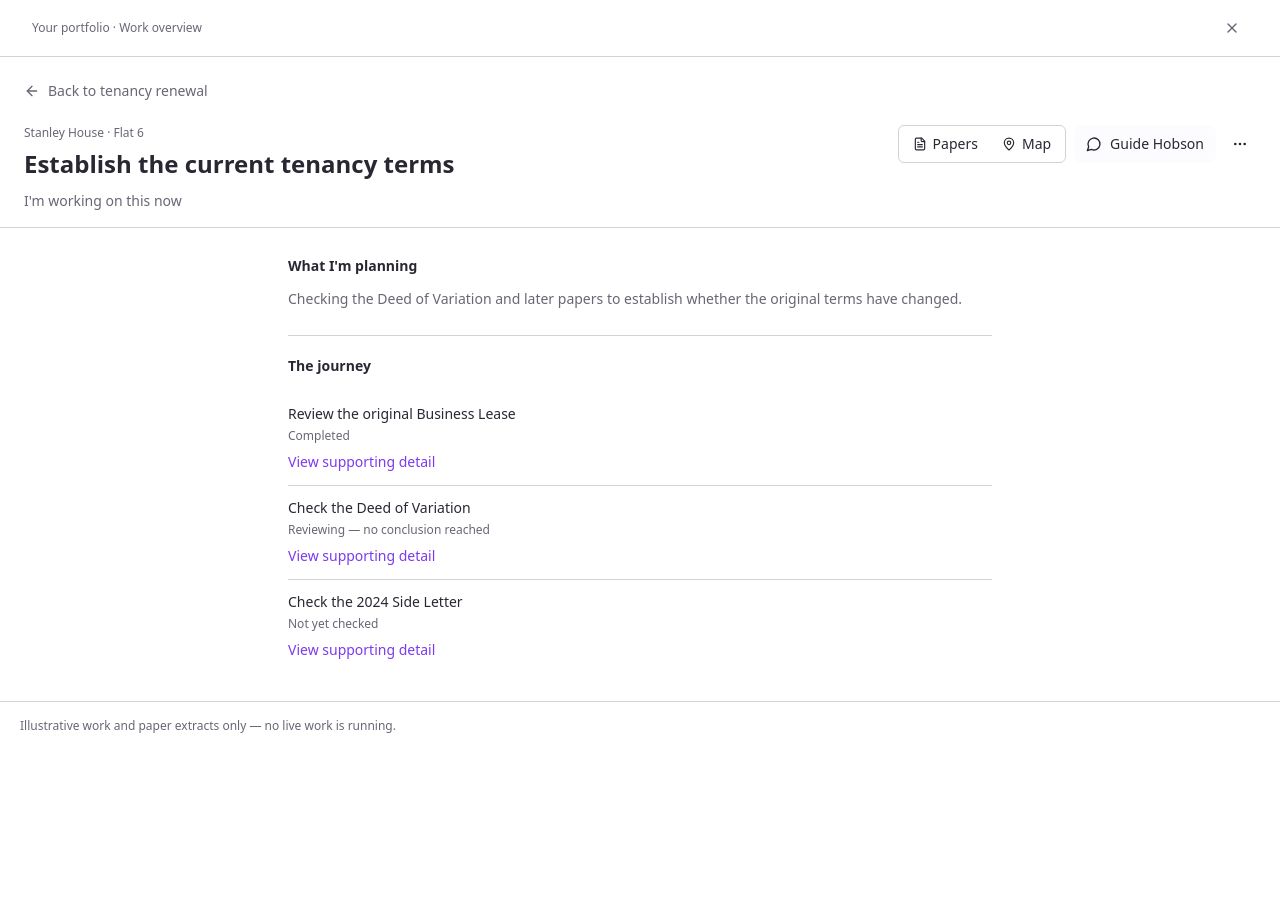
it: Illustrative work journey › opens one original-lease finding at a time and reuses its paper preview
Earlier steps of the test are not shown.
Later steps or results of the test are not shown.
Click the button "View supporting detail" below "Check the Deed of Variation" at (362, 556), box [288,546,435,566]
(page scrolled)
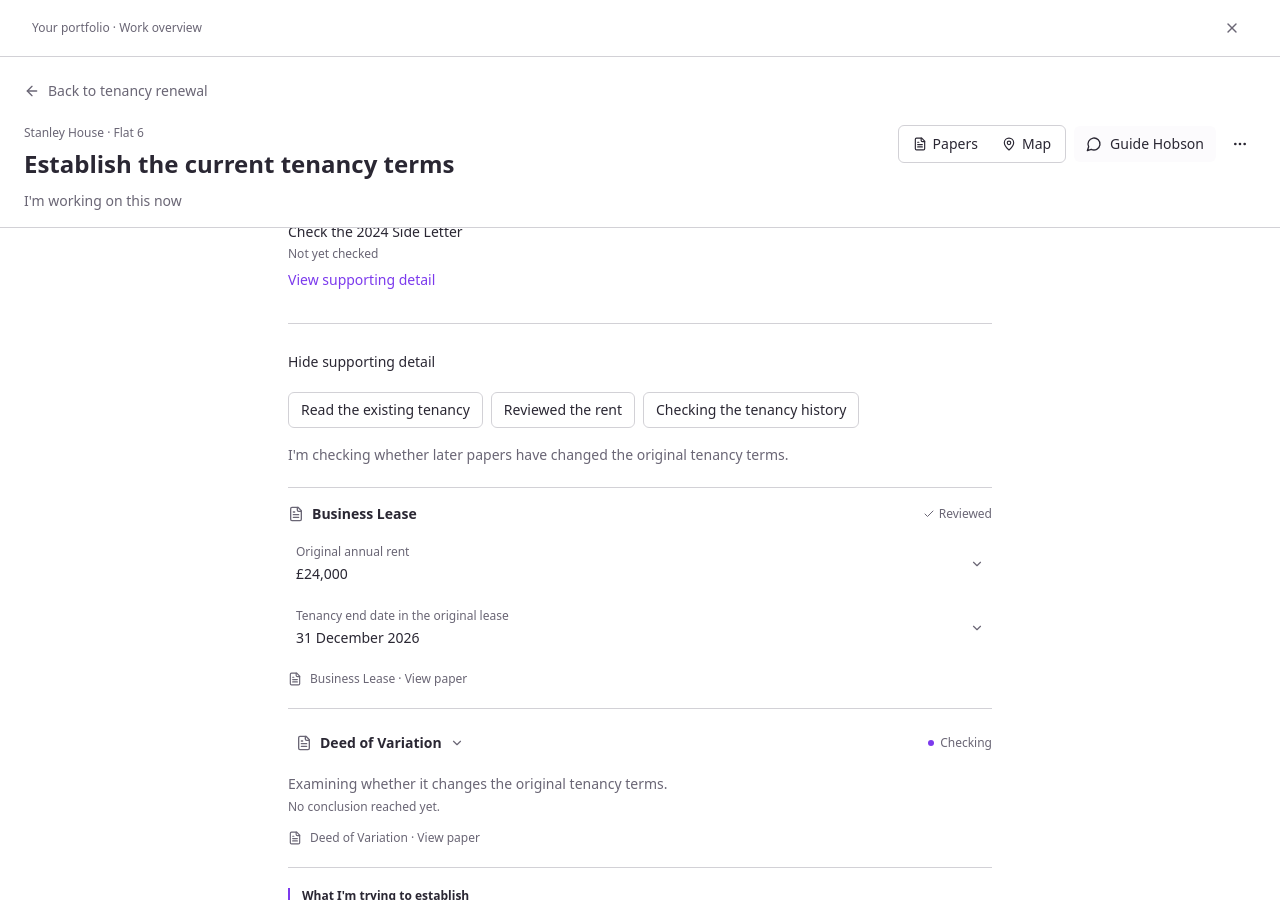
Click the button "Original annual rent £24,000" at (353, 551), box [288,536,992,592]
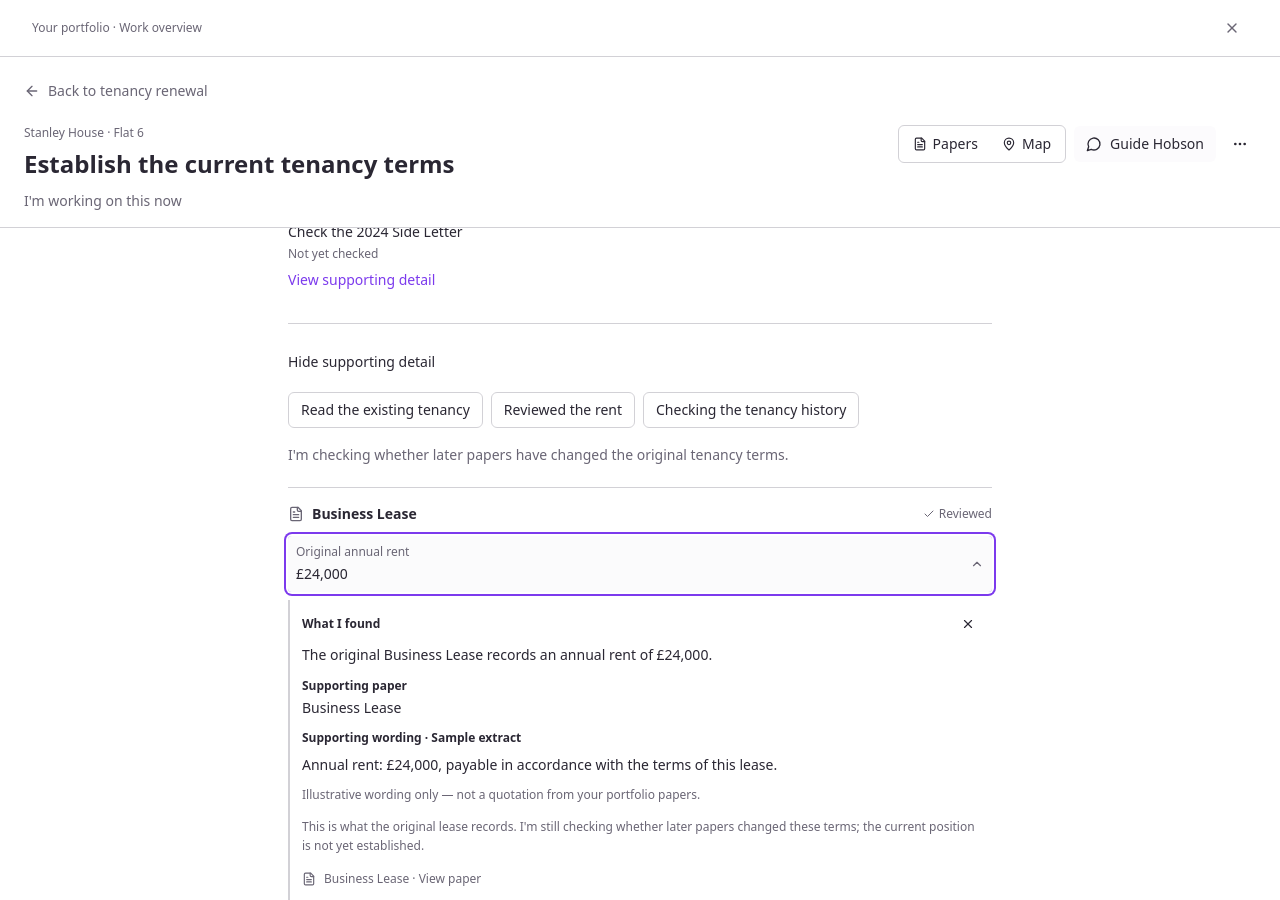
Result: the button "Original annual rent £24,000" is expanded at [288,536,992,592]
Click the button "Business Lease · View paper" at (392, 878), box [302,870,481,886]
(page scrolled)
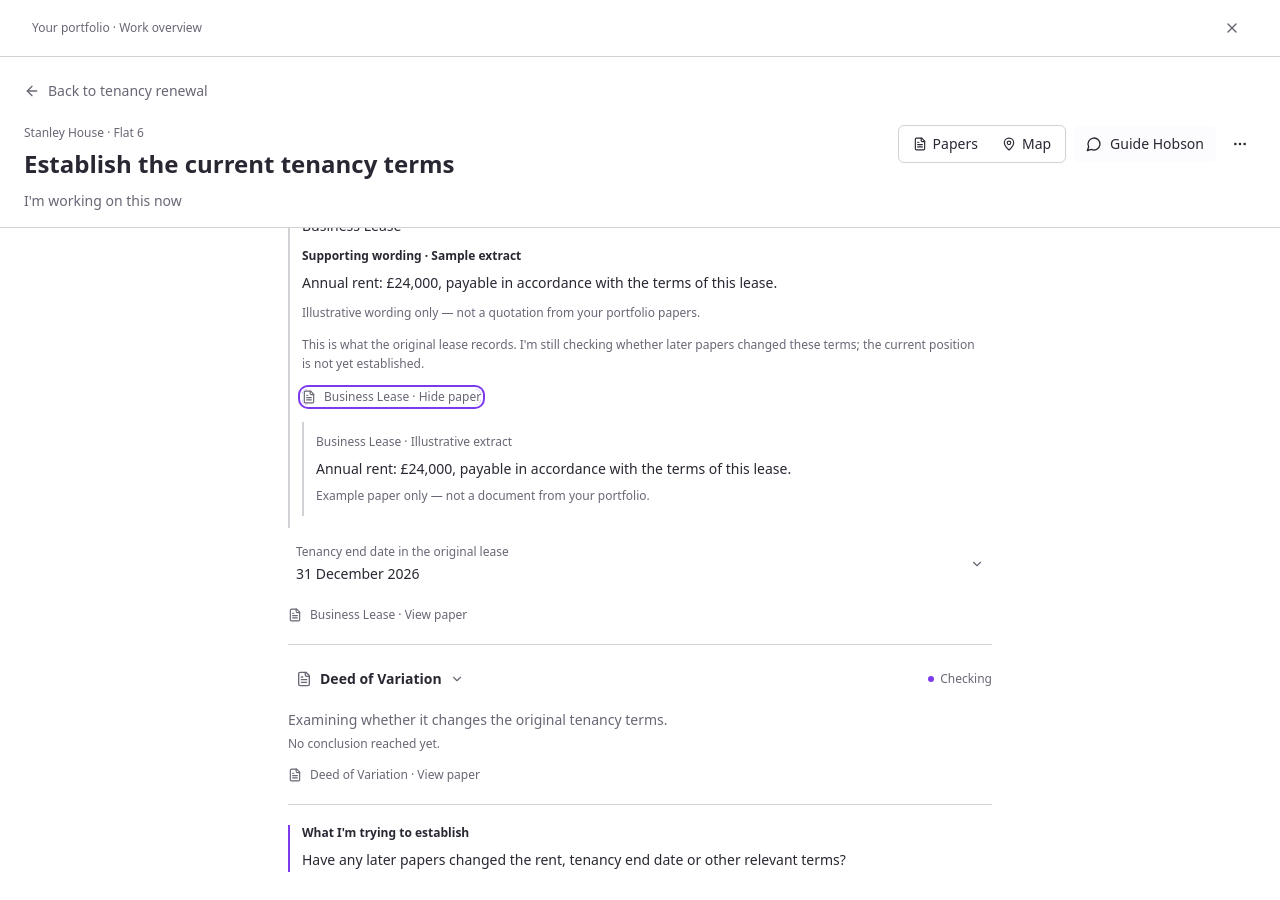
Result: the element named "Business Lease illustrative extract" shows "£24,000" at [316,458,791,478]
Click the button "Tenancy end date in the original lease 31 December 2026" at (402, 552), box [288,536,992,592]
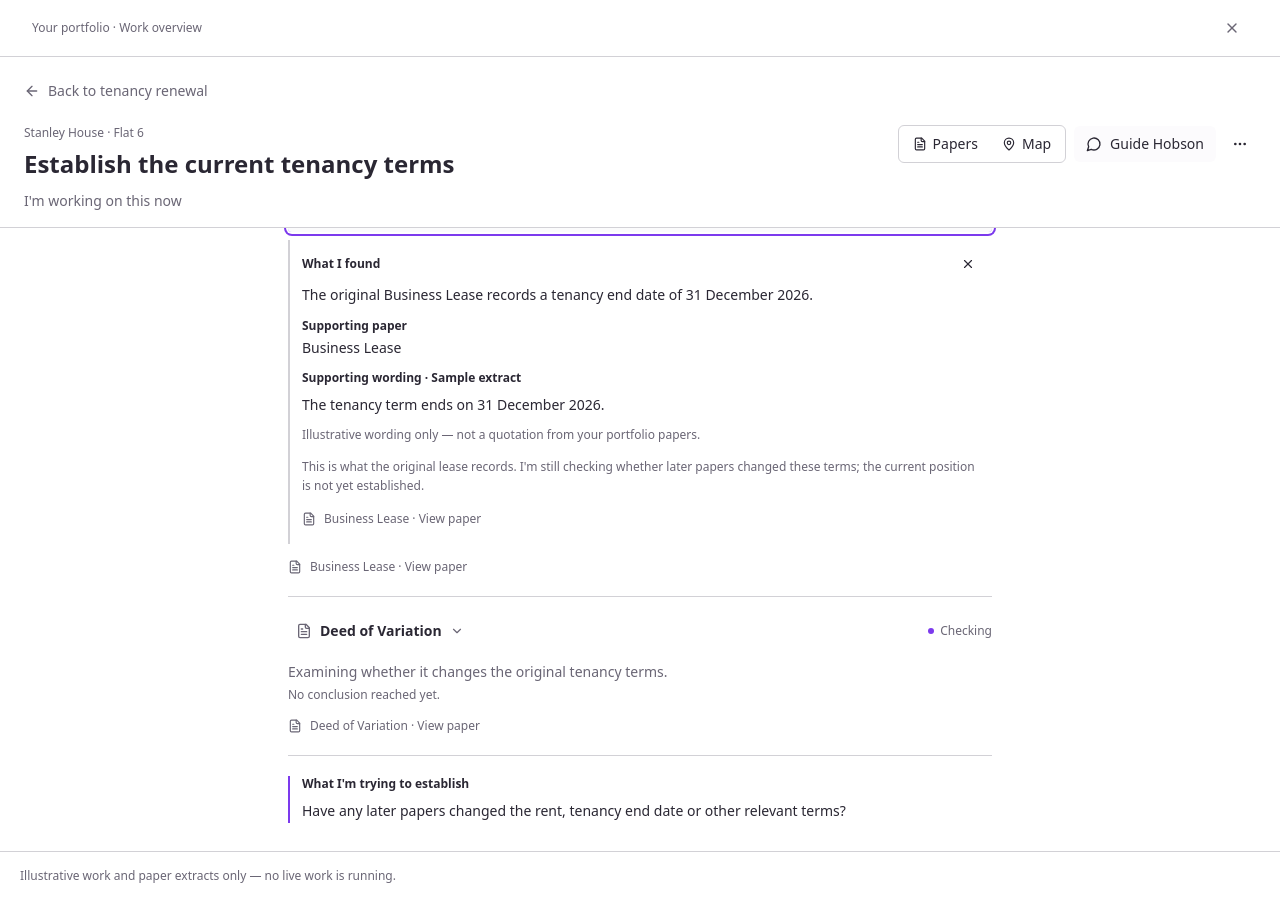
Click the button "Business Lease · View paper" below "Supporting wording · Sample extract" at (392, 518), box [302,510,481,526]
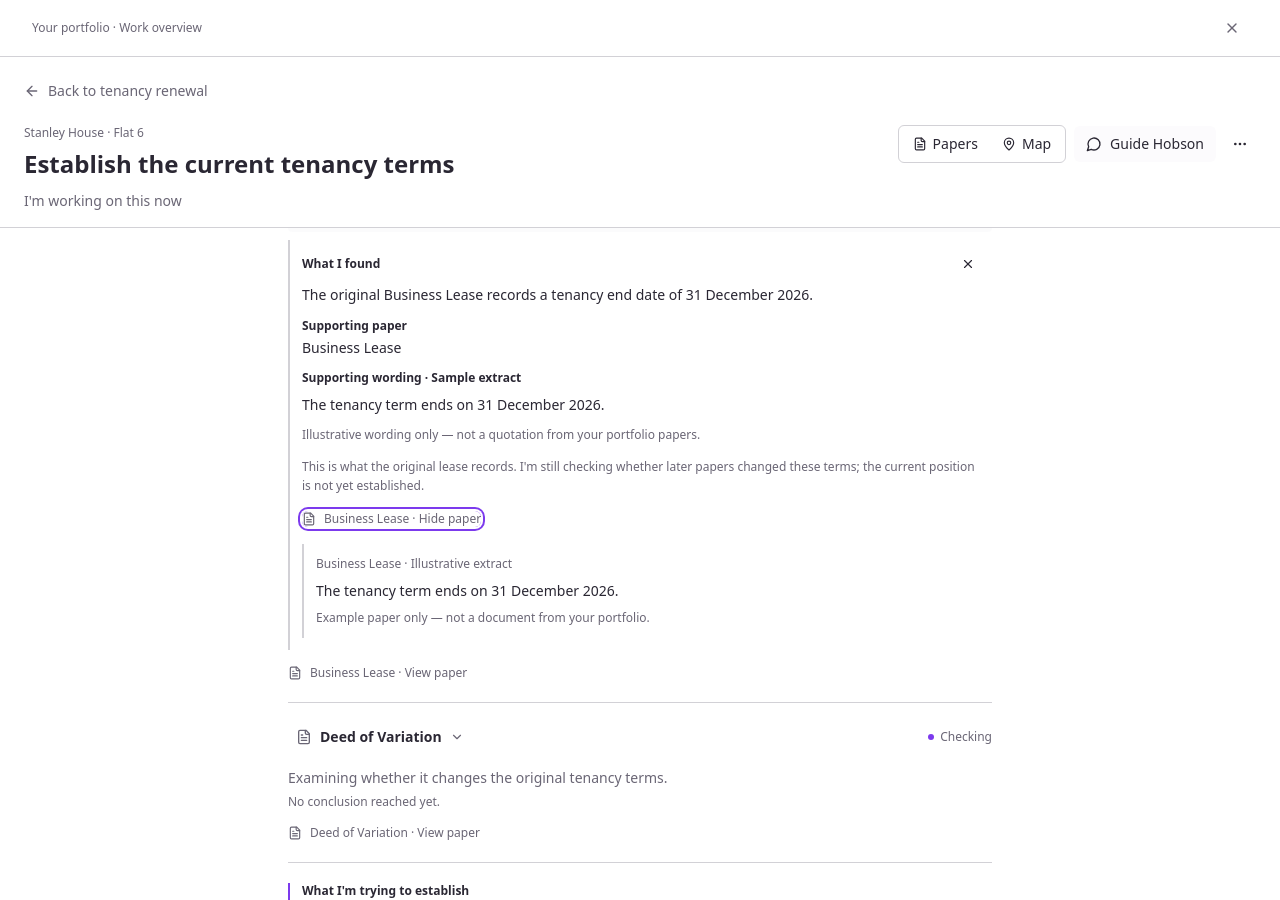
Result: the element named "Business Lease illustrative extract" shows "31 December 2026" at [316,580,618,600]
Click the button "Deed of Variation" at (380, 737), box [288,719,472,755]
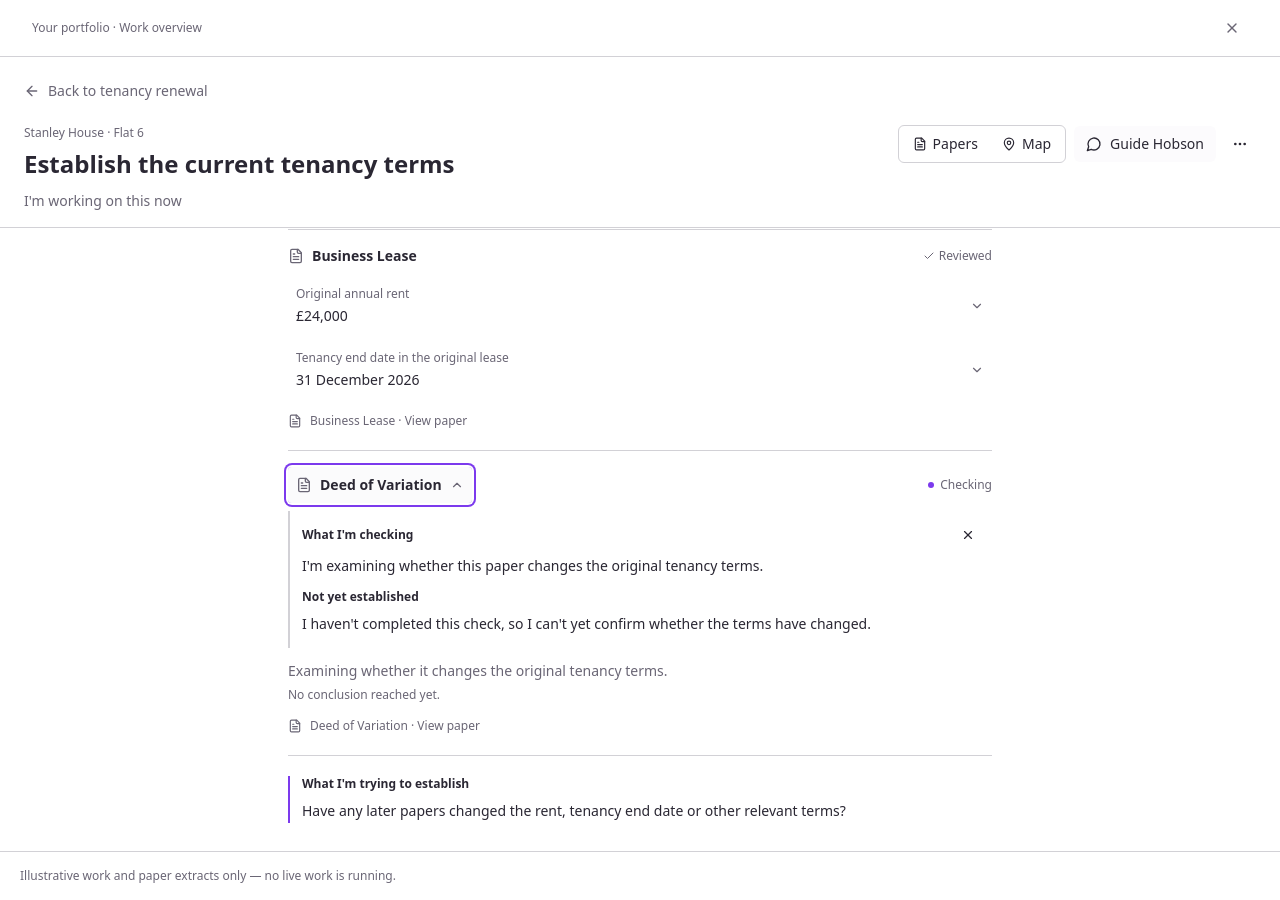
Expected: the button named "More work options" is enabled, [1224,128,1256,160]
Result: the element named "Deed of Variation investigation" is shown at [288,510,992,648]
